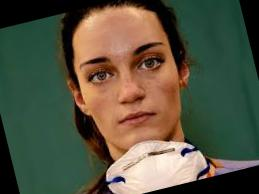mask_weared_incorrect: (76, 34, 196, 178)
